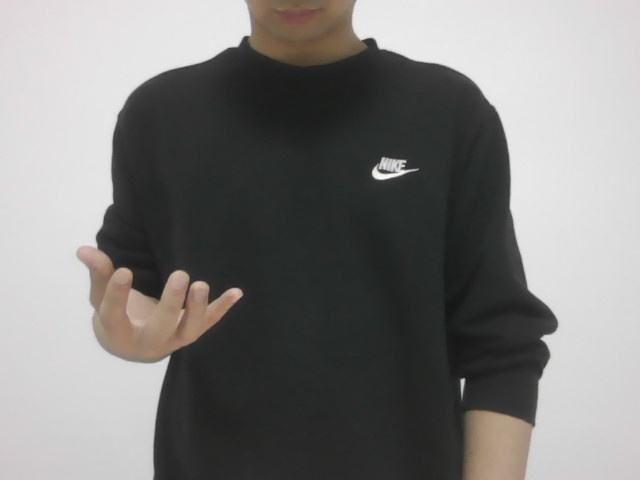flavor: (63, 247, 249, 363)
